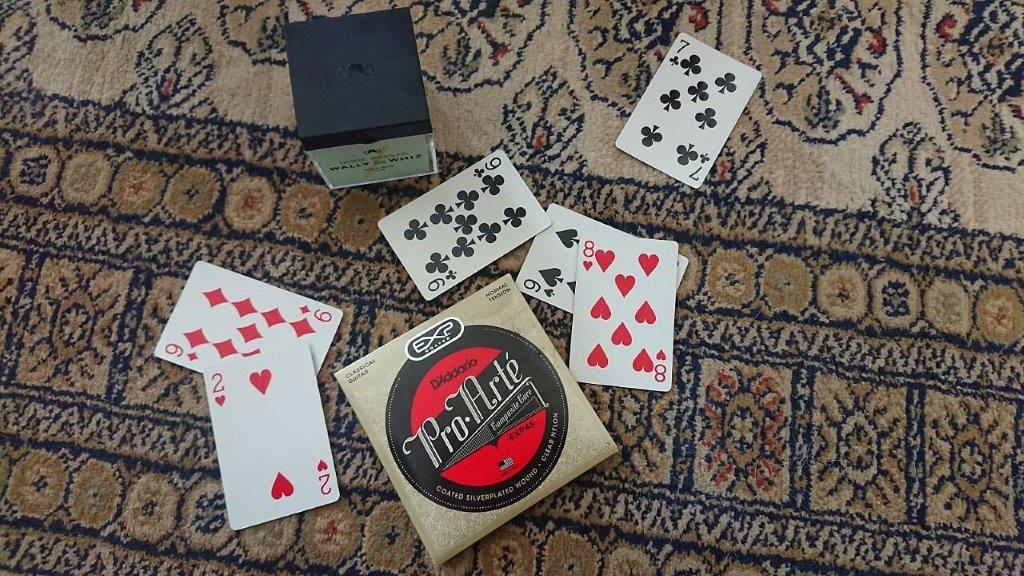2H: (207, 369, 228, 410)
7C: (665, 34, 692, 70)
8H: (577, 235, 598, 274)
9C: (469, 154, 503, 180)
